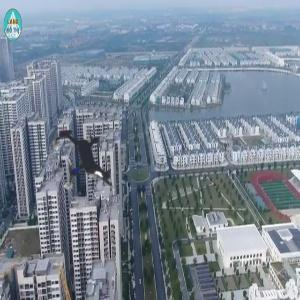drone: (24, 102, 143, 221)
